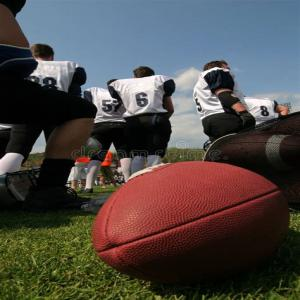Rugby: (91, 160, 289, 284), (205, 133, 300, 167)
